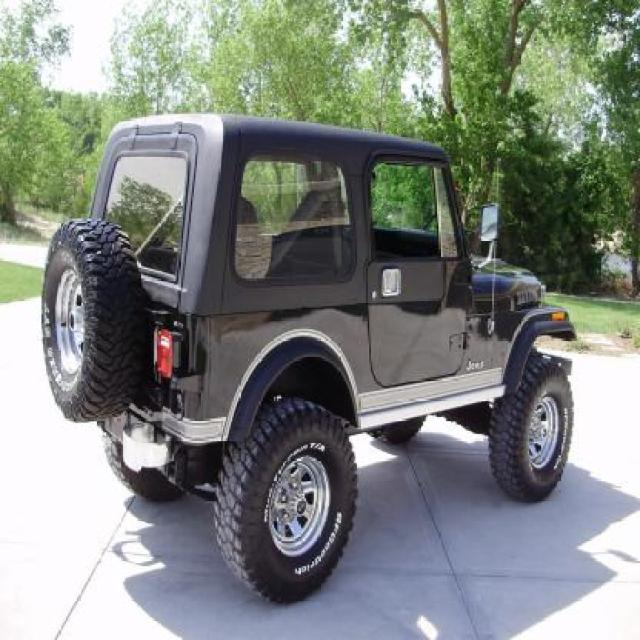Jeep: (41, 99, 578, 612)
